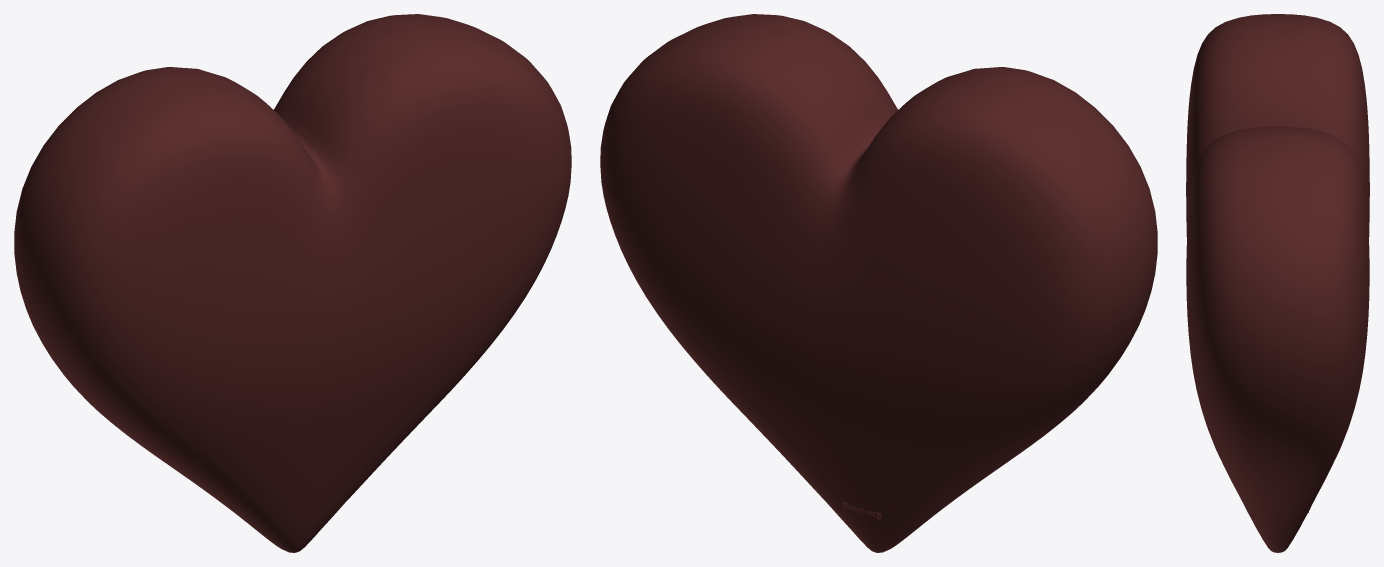
The model's file is brown_heart.glb.
The picture shows the model from 3 angles, left to right: view 1: azimuth 30°, elevation 25°; view 2: azimuth 150°, elevation 25°; view 3: azimuth 270°, elevation 25°; orthographic projection. The views are drawn at different scales.
Parts seen in each view (by area): view 1: hfdjkslfjkds.024; view 2: hfdjkslfjkds.024; view 3: hfdjkslfjkds.024.
Part boxes in pixels (left/top/right/bottom): hfdjkslfjkds.024: left=14, top=14, right=571, bottom=552; hfdjkslfjkds.024: left=600, top=14, right=1157, bottom=552; hfdjkslfjkds.024: left=1186, top=14, right=1369, bottom=552.
Size of the model in its own units: 1.86 by 1.68 by 0.5956.
Materials: 1 (1 with a texture image).
